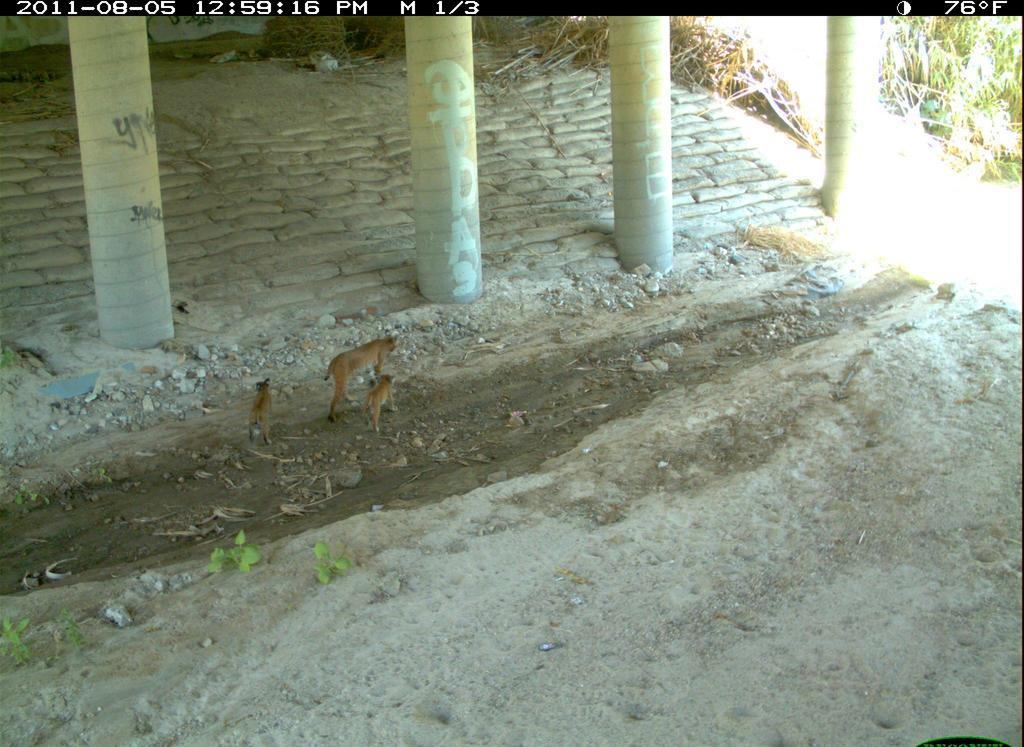bobcat: (637, 653, 809, 747), (720, 737, 808, 747)
